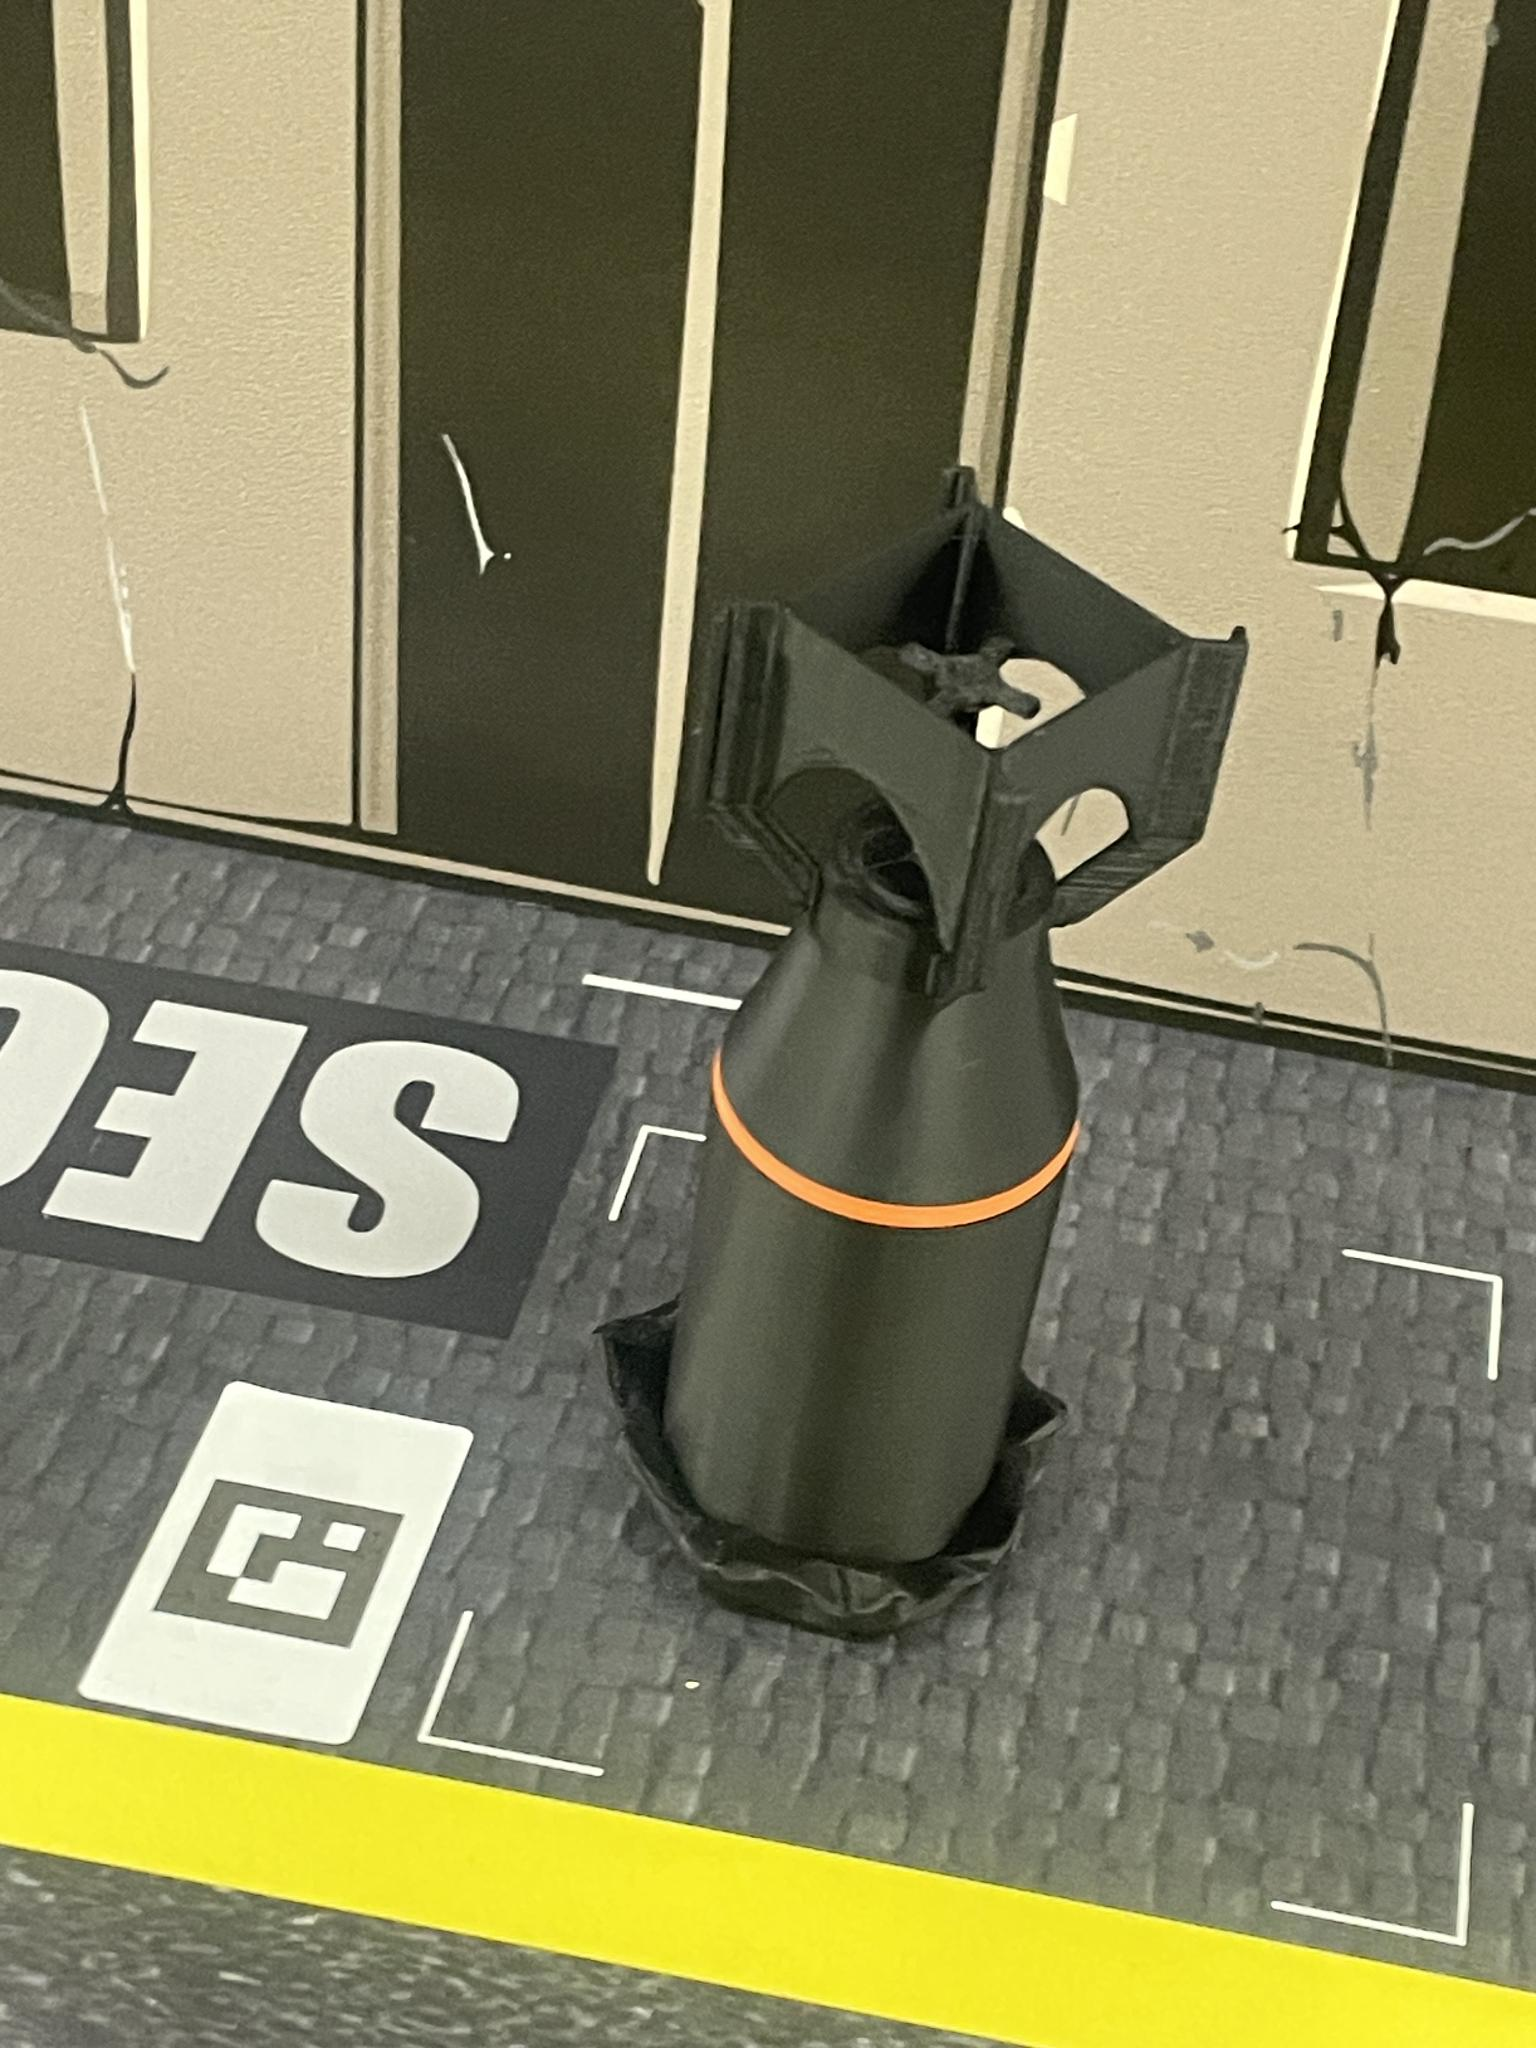Missile: (587, 455, 1262, 1651)
